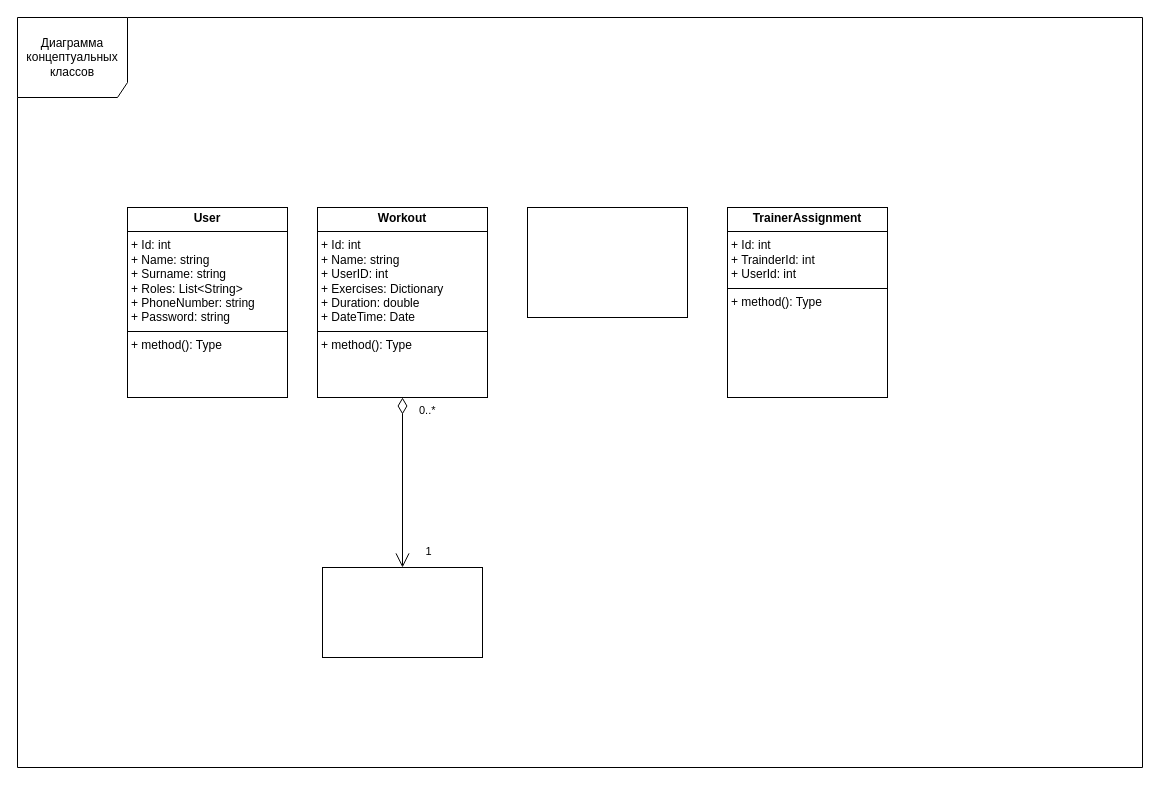
The diagram is 1160 pixels wide and 785 high, and some of its shapes have lost their labels. Each missing label, with the box of its shape:
Exercise + Id: int + Name: string + method(): Type: (322, 566, 482, 658)
ExerciseProgress + Id: int + UserId: int + Exercise + method(): Type: (526, 206, 688, 318)
